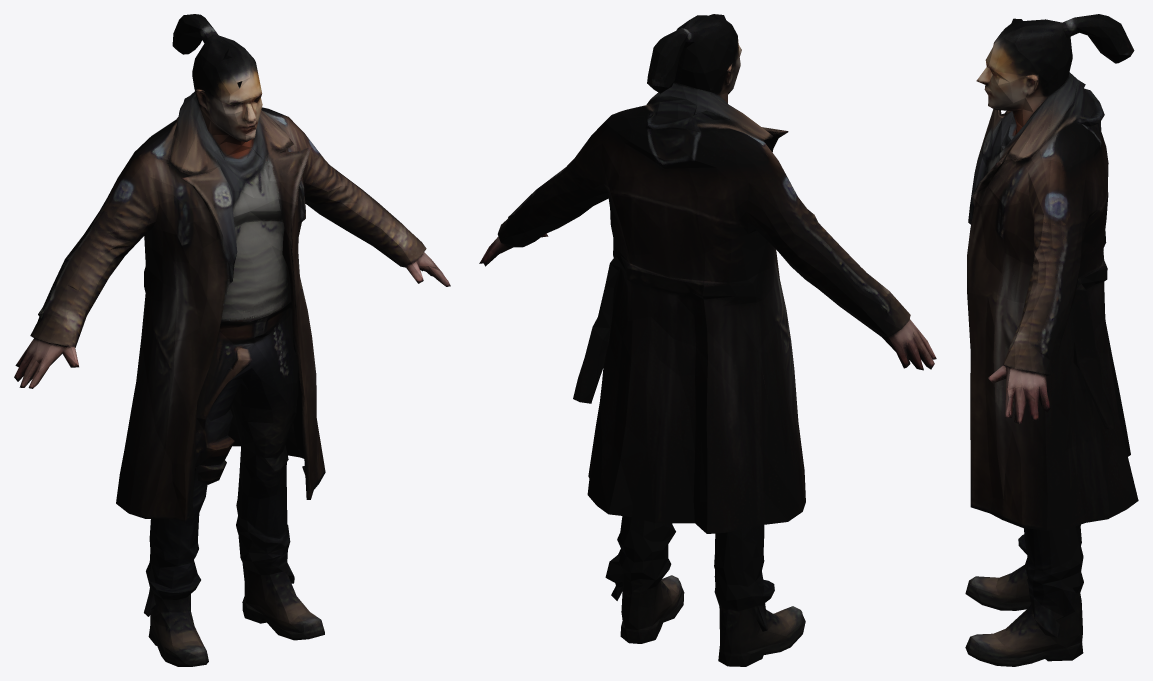
Rendered from trellis_1789575394014_ft0ql.glb.
The picture shows the model from 3 angles, left to right: view 1: azimuth 30°, elevation 25°; view 2: azimuth 150°, elevation 25°; view 3: azimuth 270°, elevation 25°; orthographic projection. The views are drawn at different scales.
Visible parts, largest first — view 1: world; view 2: world; view 3: world.
Part boxes in pixels (x1=…): world: x1=14, y1=14, x2=450, y2=666; world: x1=479, y1=14, x2=936, y2=666; world: x1=965, y1=14, x2=1138, y2=666.
Bounding box in the file's own units: 0.7492 × 1 × 0.2555.
Materials: 1 (1 with a texture image).
